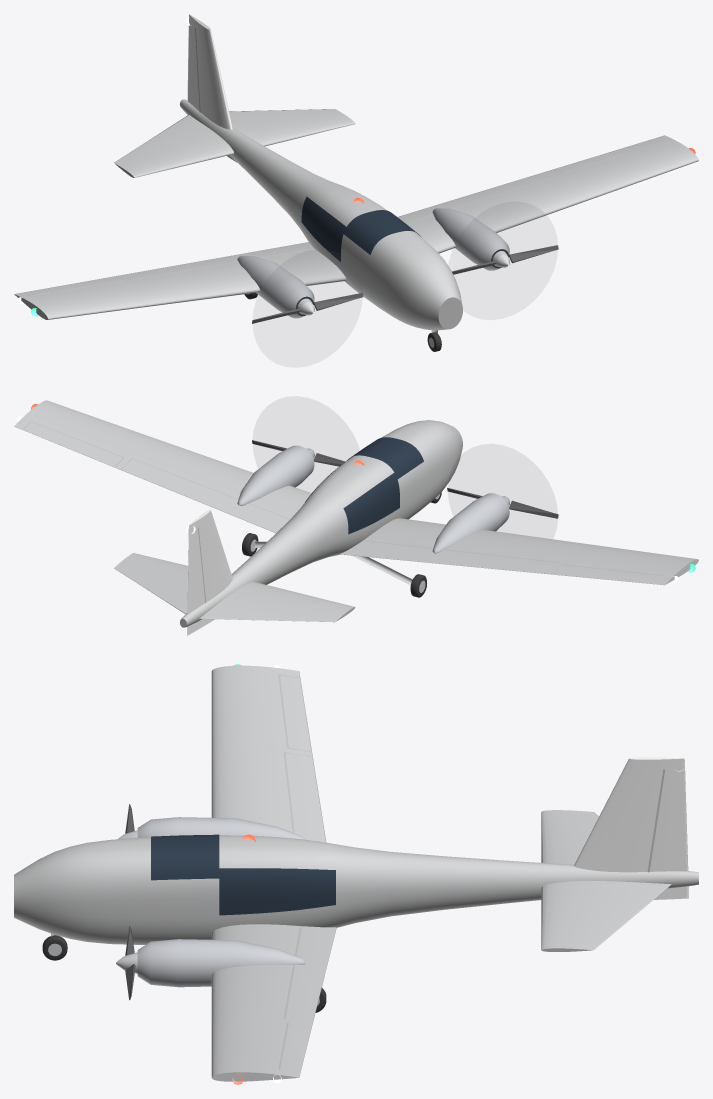
3 views of the same model, one above another, from view 1: azimuth 30°, elevation 25°; view 2: azimuth 150°, elevation 25°; view 3: azimuth 270°, elevation 25° (orthographic). The views are drawn at different scales.
Visible parts, largest first — view 1: airframe, prop (×2); view 2: airframe, gear, prop (×2); view 3: airframe, gear.
Part boxes in pixels (x1,y1,x2,y2): airframe: [14, 14, 698, 330]; prop (×2): [252, 245, 558, 323]; airframe: [14, 400, 698, 635]; gear: [242, 492, 441, 597]; prop (×2): [252, 440, 558, 518]; airframe: [14, 664, 698, 1084]; gear: [42, 933, 326, 1012].
Size of the model in its own units: 12.02 by 2.95 by 8.4.
